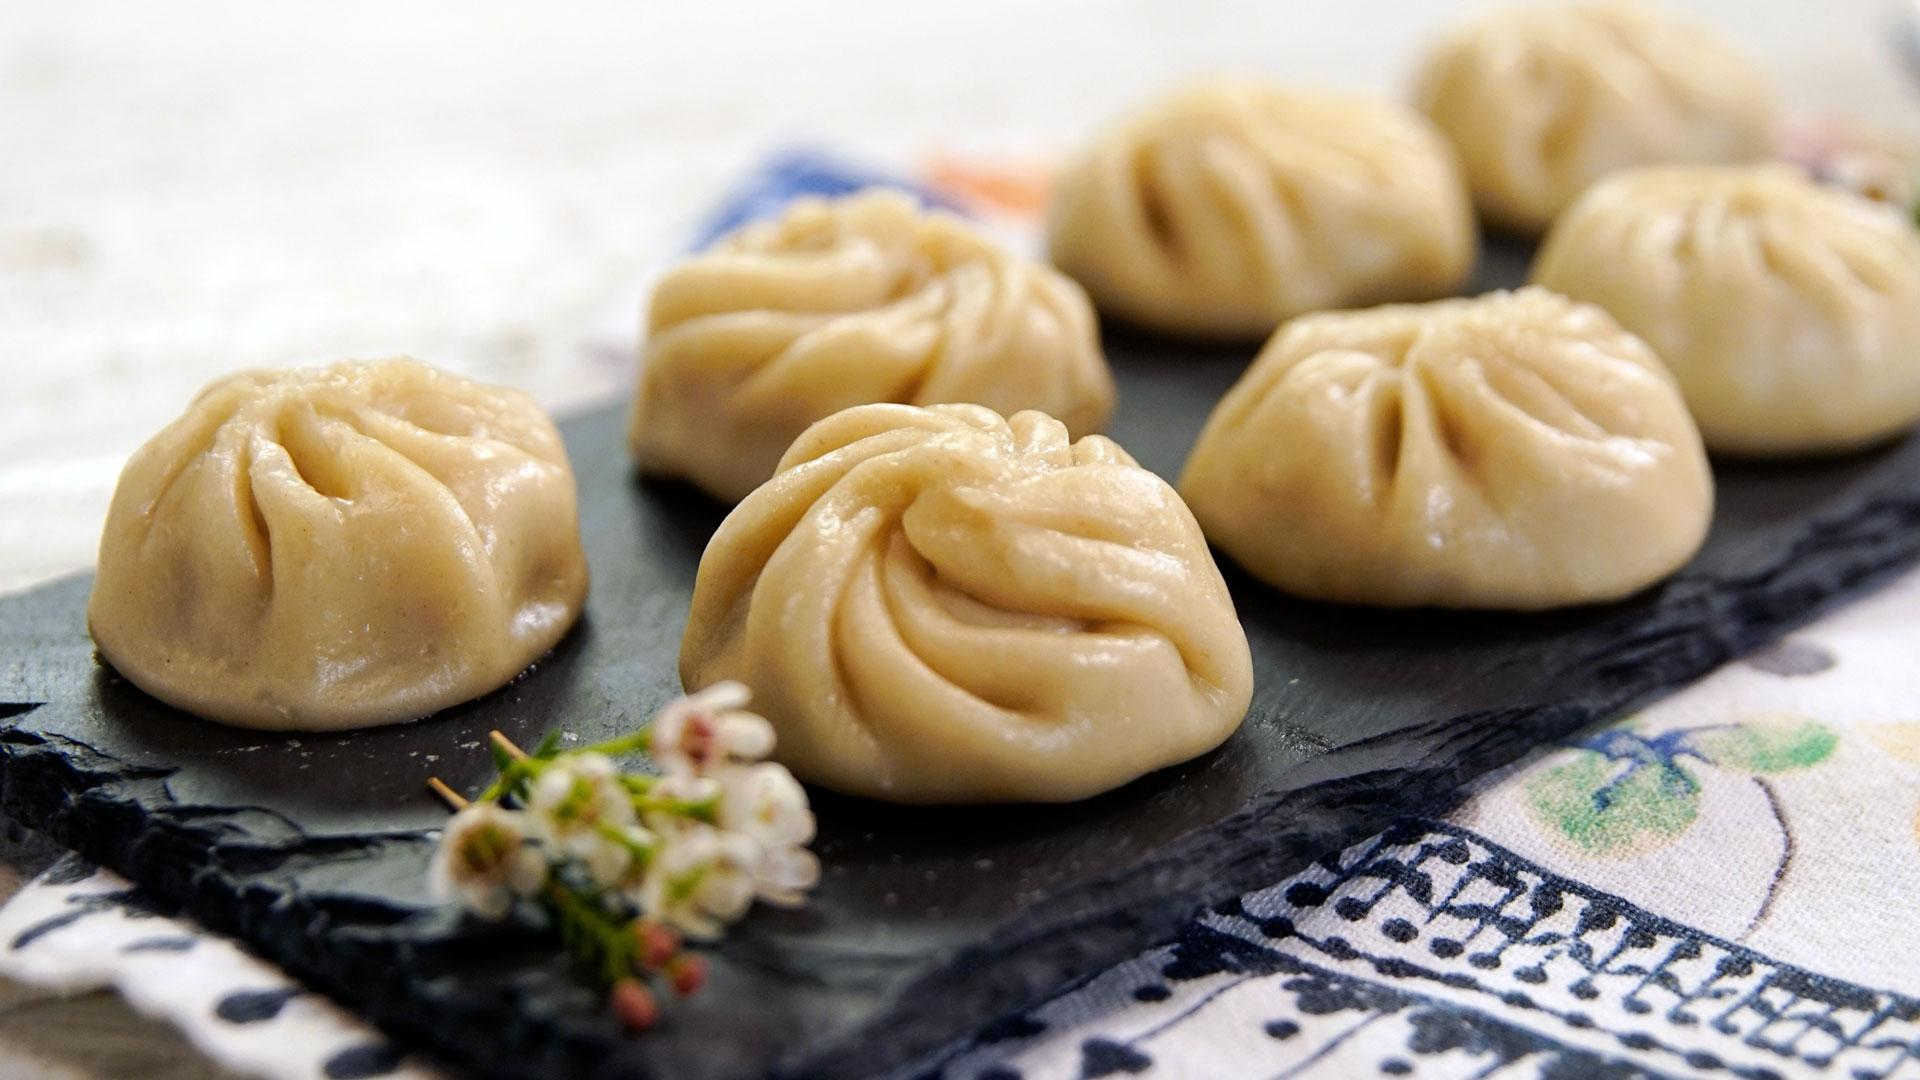momos: (679, 405, 1253, 803), (86, 356, 588, 732), (1178, 285, 1714, 608), (630, 191, 1114, 502), (1530, 165, 1920, 454), (1050, 79, 1474, 338), (1414, 4, 1778, 236)
